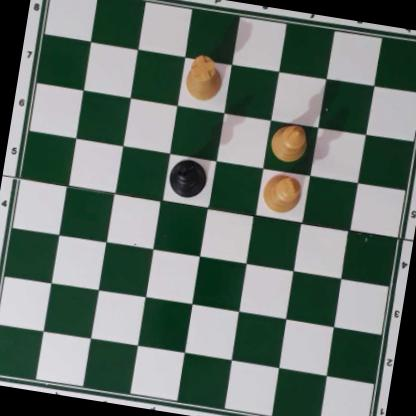black-king: (165, 156, 209, 200)
white-bishop: (269, 121, 308, 164)
white-king: (260, 170, 304, 216)
white-rook: (183, 54, 226, 104)
